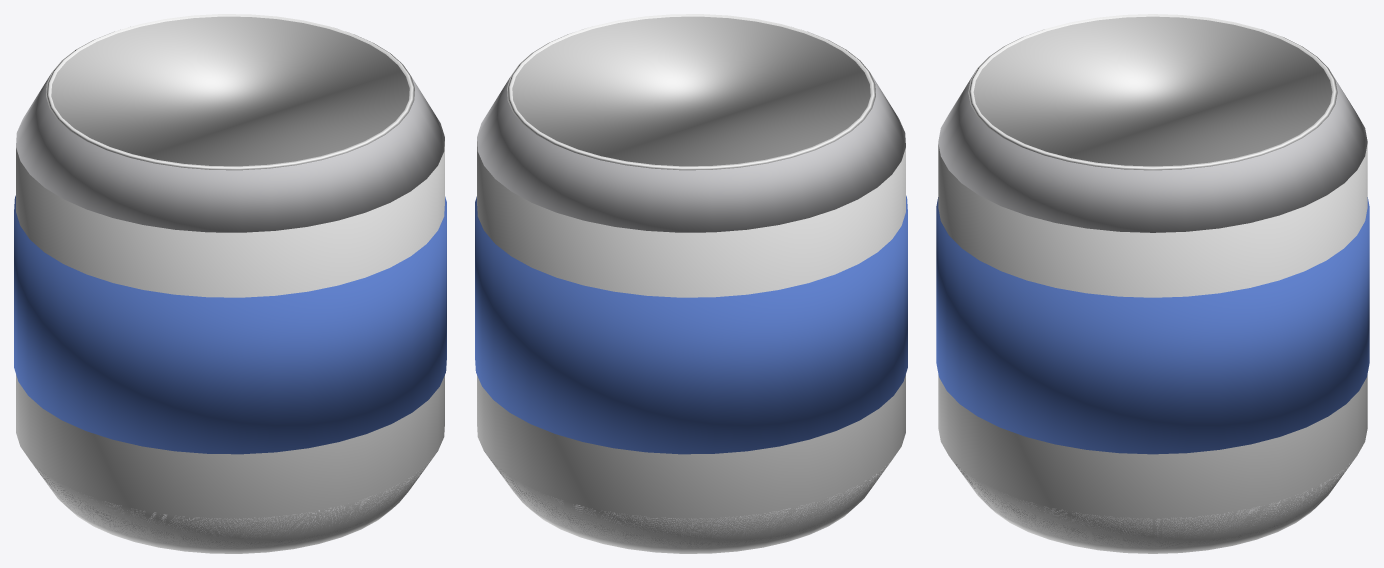
Rendered from SM_FishBalls.glb.
3 renders of one model, left to right at view 1: azimuth 30°, elevation 25°; view 2: azimuth 150°, elevation 25°; view 3: azimuth 270°, elevation 25°, orthographic.
Parts seen in each view (by area): view 1: SM_FishBalls; view 2: SM_FishBalls; view 3: SM_FishBalls.
Boxes of the visible parts, left/top/right/bottom form: SM_FishBalls: left=14, top=14, right=446, bottom=553; SM_FishBalls: left=475, top=14, right=907, bottom=553; SM_FishBalls: left=936, top=14, right=1369, bottom=553.
Size of the model in its own units: 0.0908 by 0.09 by 0.0908.
